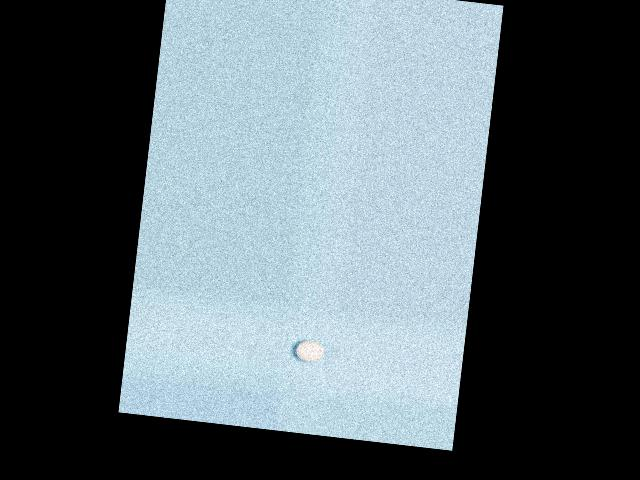egg: (294, 339, 325, 363)
